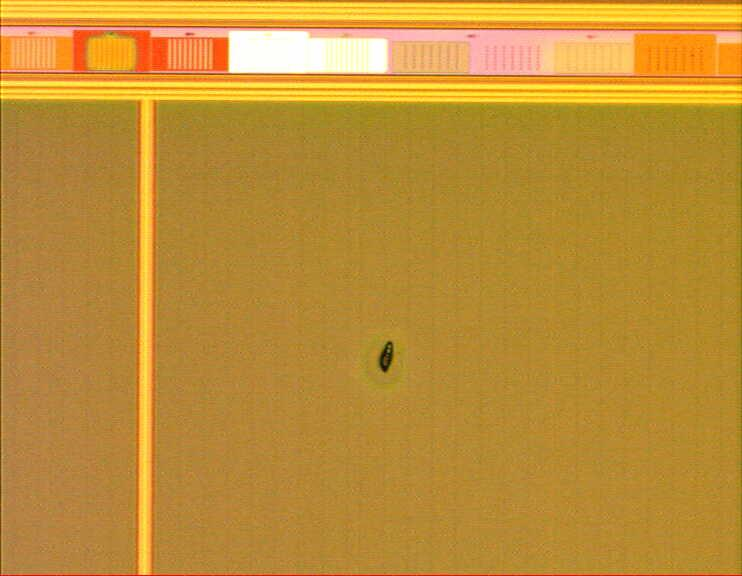PIQ PARTICLE: (374, 336, 404, 379)
